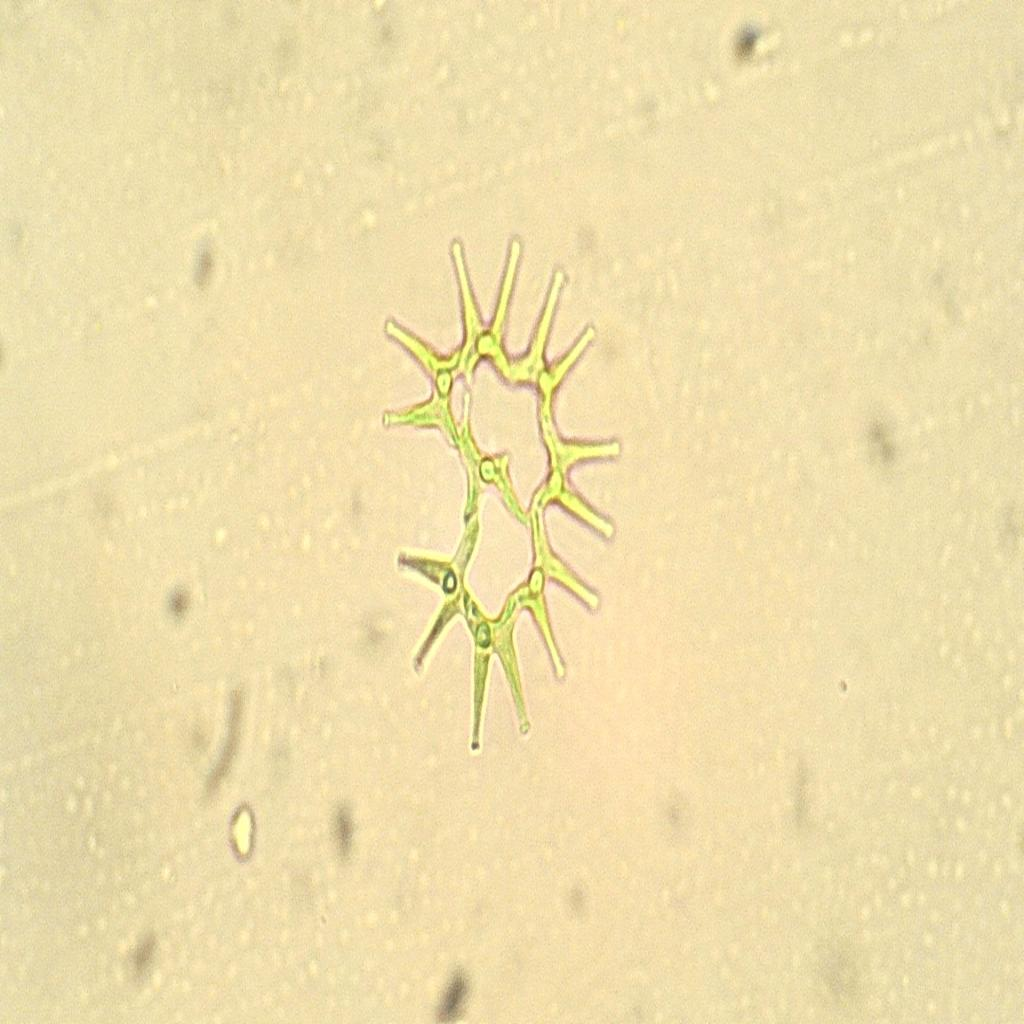Pediastrum_CFI: (372, 213, 629, 769)
